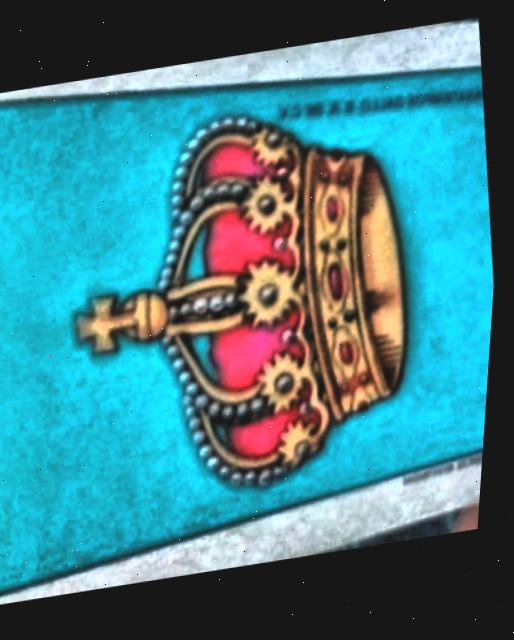La Corona: (0, 77, 498, 593)
